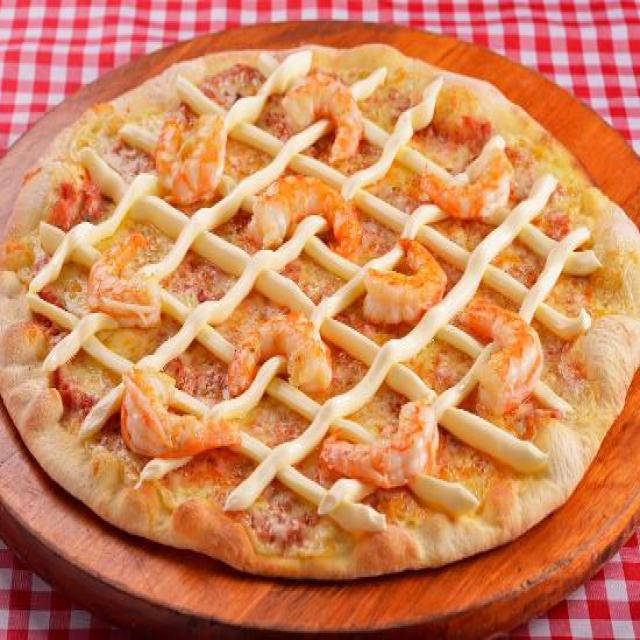camarao: (104, 377, 240, 465), (458, 292, 546, 418), (322, 402, 441, 491), (249, 173, 359, 261), (228, 313, 332, 404), (360, 234, 448, 330), (280, 67, 364, 163), (417, 143, 514, 220), (86, 229, 161, 325), (155, 114, 230, 202)
pizza: (0, 37, 639, 586)
